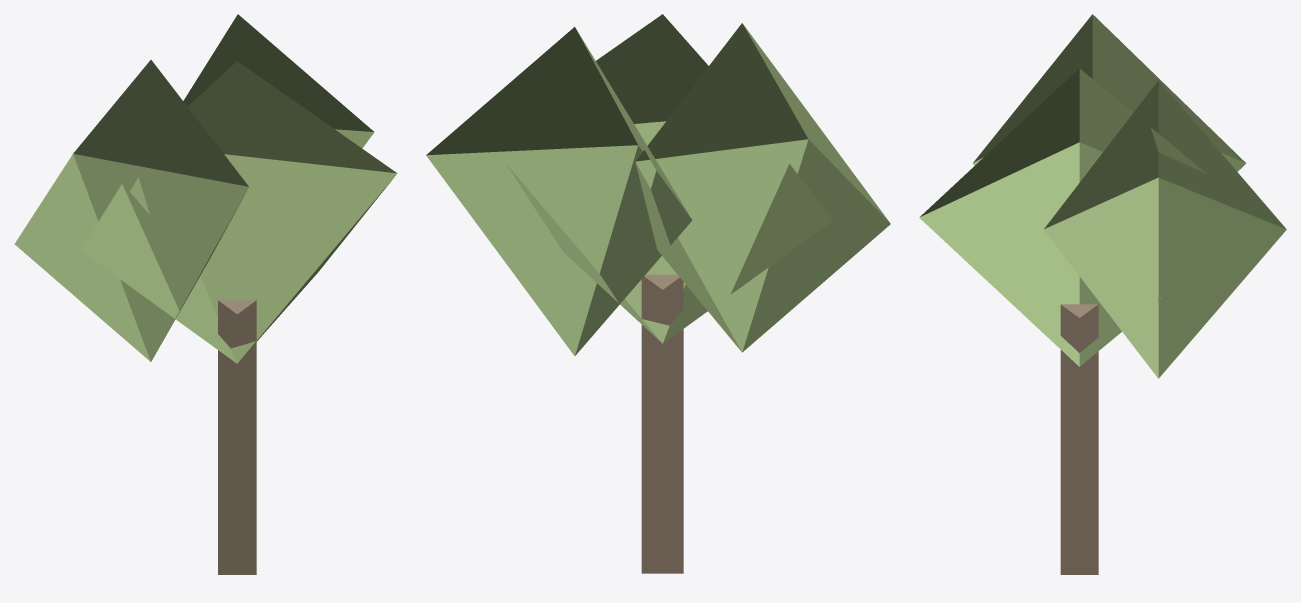
File: sprout.temp.sapling__spring.glb
3 views of the same model, side by side, from view 1: azimuth 30°, elevation 25°; view 2: azimuth 150°, elevation 25°; view 3: azimuth 270°, elevation 25° (orthographic). The views are drawn at different scales.
Parts seen in each view (by area): view 1: sprout.temp.sapling__spring; view 2: sprout.temp.sapling__spring; view 3: sprout.temp.sapling__spring.
Part boxes in pixels (x1,y1,x2,y2): sprout.temp.sapling__spring: (14, 14, 397, 574); sprout.temp.sapling__spring: (426, 14, 890, 573); sprout.temp.sapling__spring: (919, 14, 1286, 574).
Bounding box in the file's own units: 0.93 × 1.21 × 0.7632.
